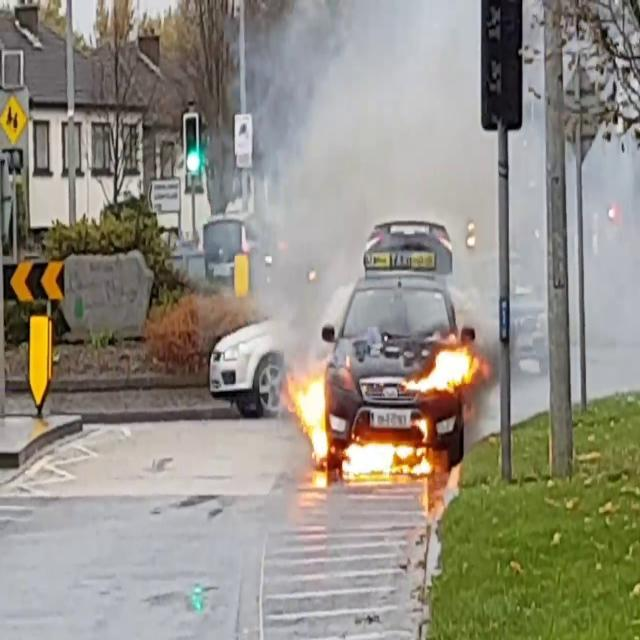Fire: (339, 424, 432, 486), (287, 367, 335, 471), (407, 336, 482, 399)
Smoke: (221, 1, 486, 343), (460, 44, 640, 388)
